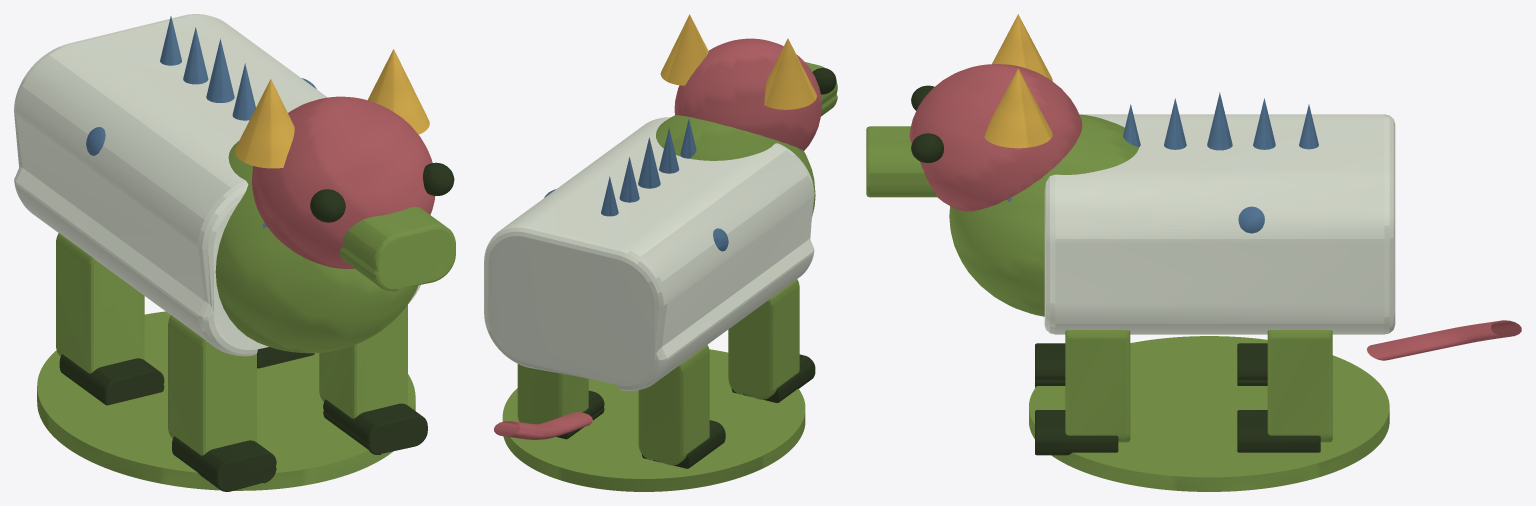
File: 1285_爬行动物图鉴_绿瘦蛇.glb
The picture shows the model from 3 angles, left to right: view 1: azimuth 30°, elevation 25°; view 2: azimuth 150°, elevation 25°; view 3: azimuth 270°, elevation 25°; orthographic projection. The views are drawn at different scales.
Visible parts, largest first — view 1: card_1285; view 2: card_1285; view 3: card_1285.
Part boxes in pixels (x1,y1,x2,y2): card_1285: [14, 14, 455, 491]; card_1285: [484, 14, 837, 491]; card_1285: [866, 14, 1521, 491].
Bounding box in the file's own units: 0.7971 × 1 × 1.56.
